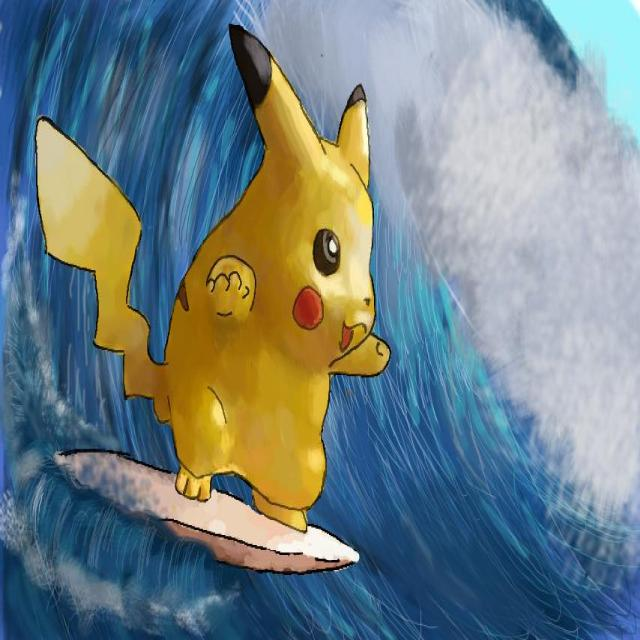pikachu: (34, 26, 390, 532)
